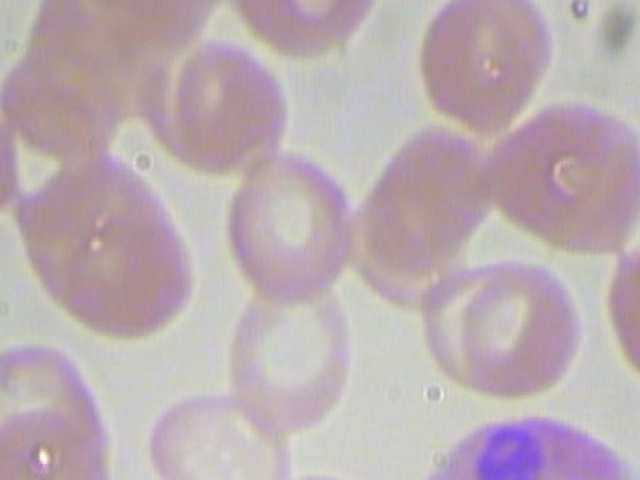RBC: (12, 144, 200, 348), (474, 94, 640, 269), (216, 261, 361, 442), (212, 148, 359, 304), (148, 25, 296, 178), (409, 0, 562, 137), (453, 255, 587, 401), (135, 379, 294, 480), (232, 0, 380, 65), (598, 232, 640, 392), (0, 87, 22, 240), (246, 462, 407, 480)
WBC: (383, 412, 640, 480)
